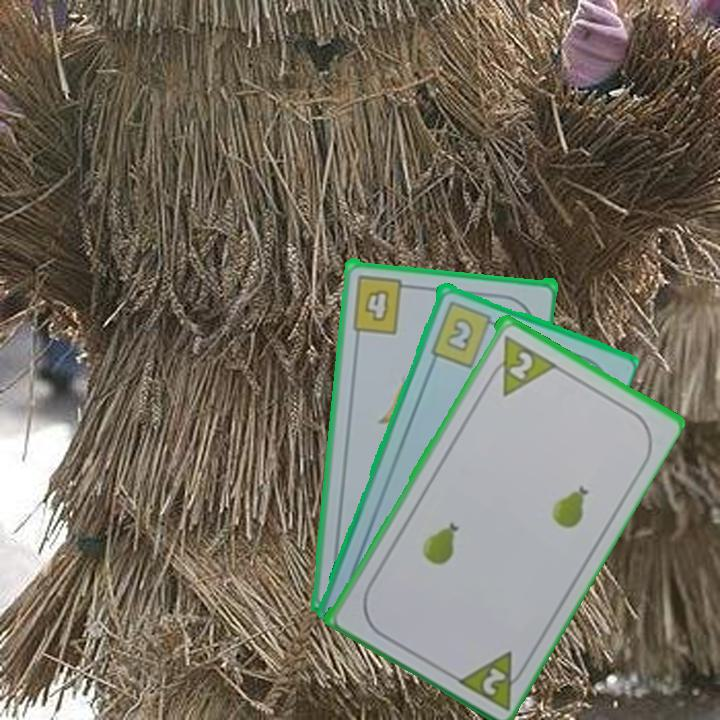2b: (426, 297, 502, 370)
2p: (450, 646, 532, 712), (481, 330, 557, 399)
4b: (348, 271, 416, 336)
